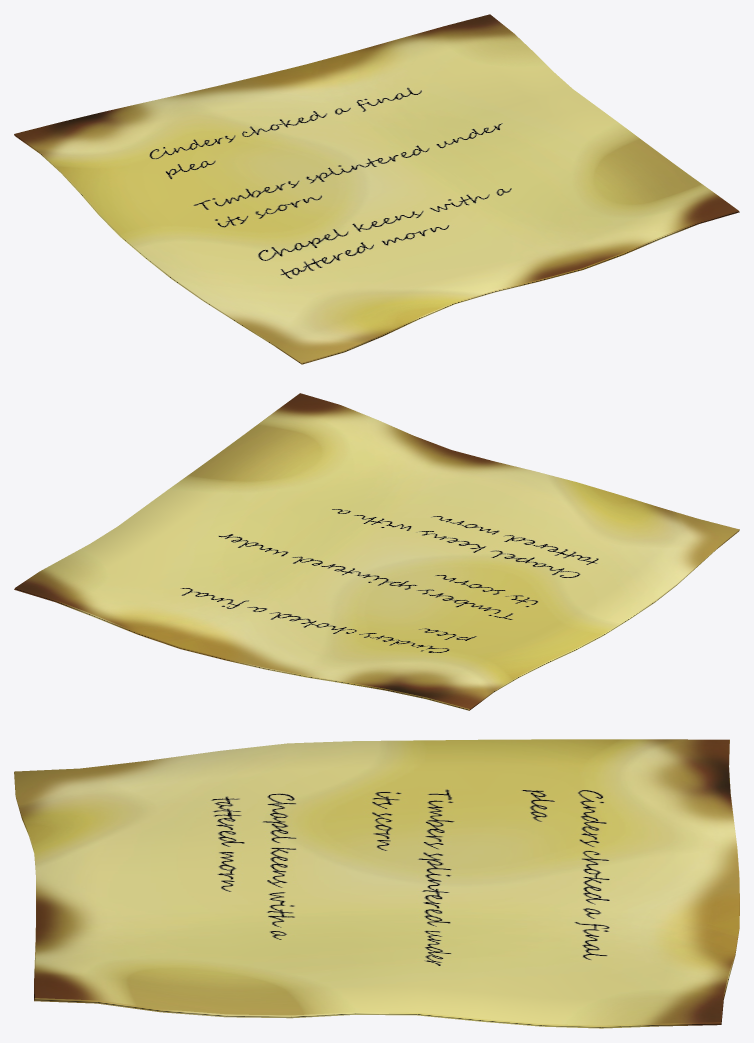
Rendered from Paper8.glb.
3 renders of one model, top to bottom at view 1: azimuth 30°, elevation 25°; view 2: azimuth 150°, elevation 25°; view 3: azimuth 270°, elevation 25°, orthographic. The views are drawn at different scales.
Visible parts, largest first — view 1: Plane; view 2: Plane; view 3: Plane.
Boxes of the visible parts, bbox=[...] form: Plane: bbox=[14, 14, 739, 364]; Plane: bbox=[14, 393, 739, 710]; Plane: bbox=[14, 739, 739, 1028].
Size of the model in its own units: 0.8607 by 0.0672 by 0.8722.
1 material, 1 textured.
